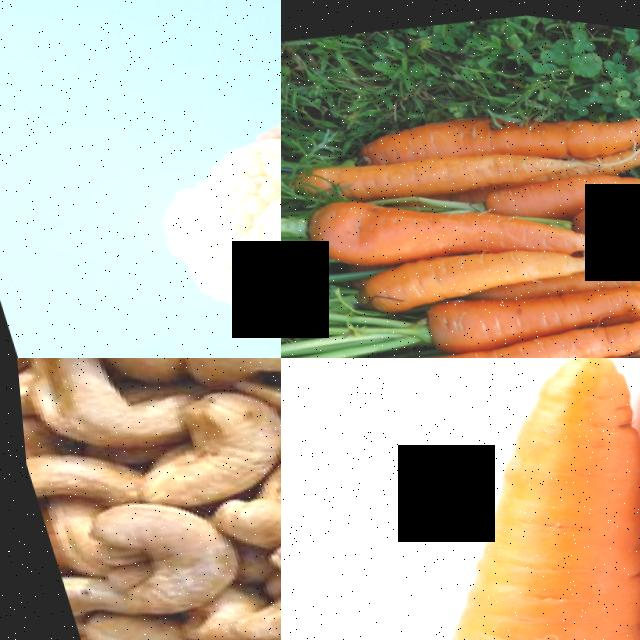carrot: (281, 358, 640, 640), (358, 67, 640, 195), (341, 213, 590, 335), (281, 165, 524, 286), (310, 125, 518, 229), (355, 309, 607, 358)
cashew: (64, 487, 237, 633), (155, 370, 281, 527), (11, 358, 173, 472), (29, 358, 193, 388), (167, 358, 281, 398), (79, 599, 179, 640)
cauliflower: (123, 80, 281, 358)
